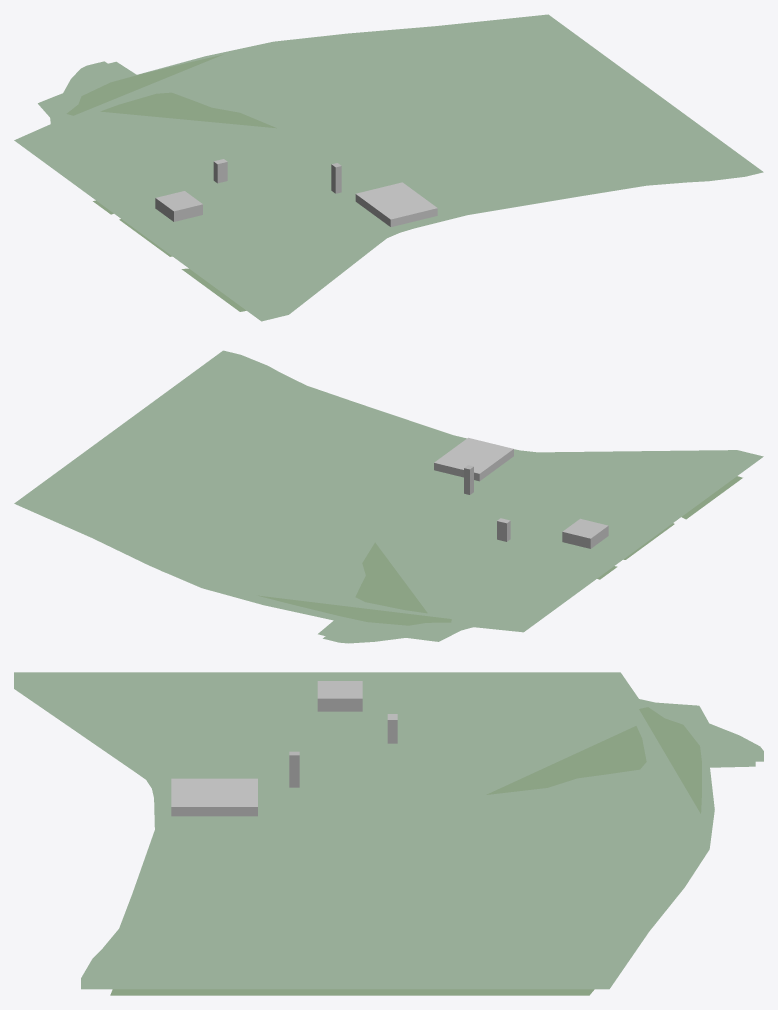
Rendered from 132_124_mid.glb.
3 renders of one model, top to bottom at view 1: azimuth 30°, elevation 25°; view 2: azimuth 150°, elevation 25°; view 3: azimuth 270°, elevation 25°, orthographic. The views are drawn at different scales.
Size of the model in its own units: 500 by 29.45 by 500.
